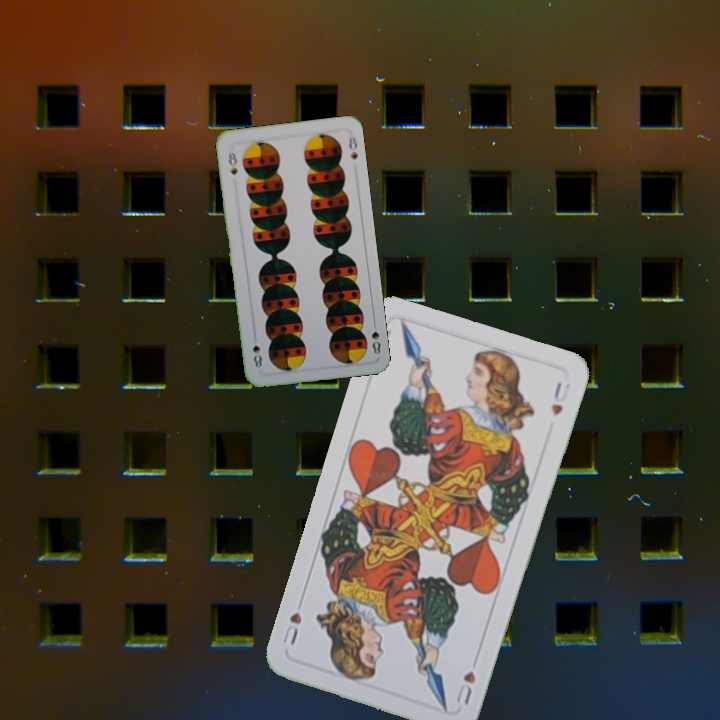HU: (452, 666, 479, 707)
S8: (367, 317, 383, 357), (224, 148, 240, 177)
